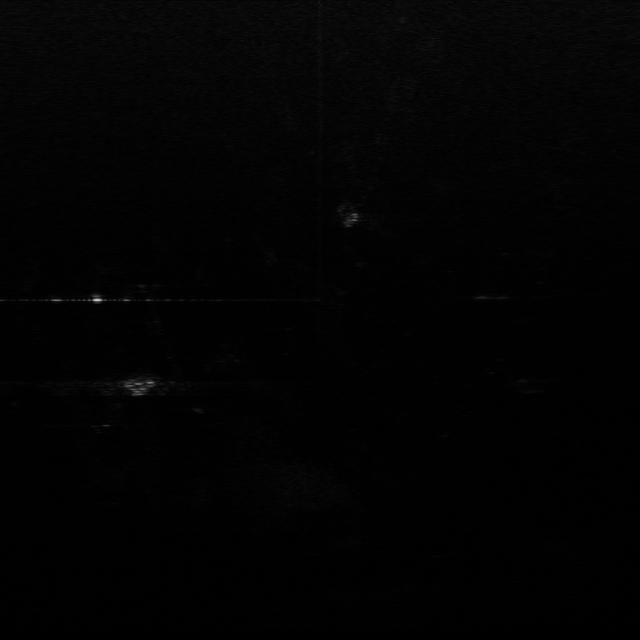rov: (122, 376, 157, 402)
